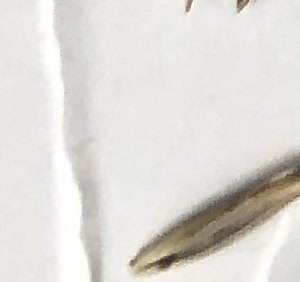Add a new class...: (126, 152, 300, 271)
